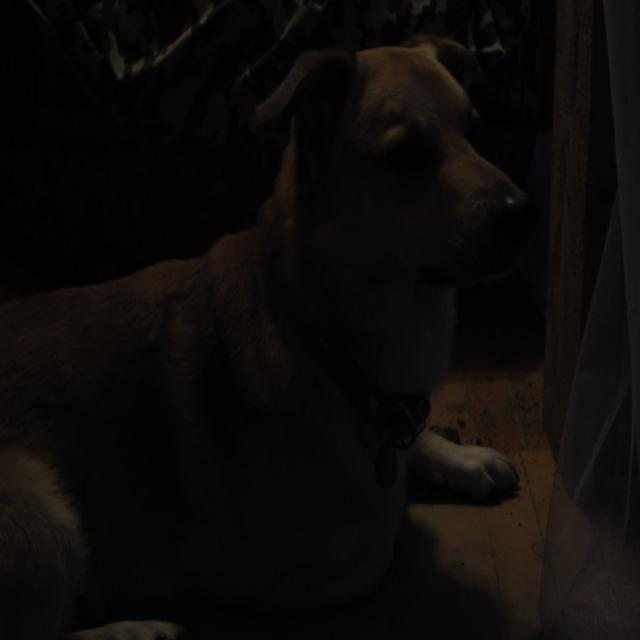Dog: (43, 44, 630, 623)
